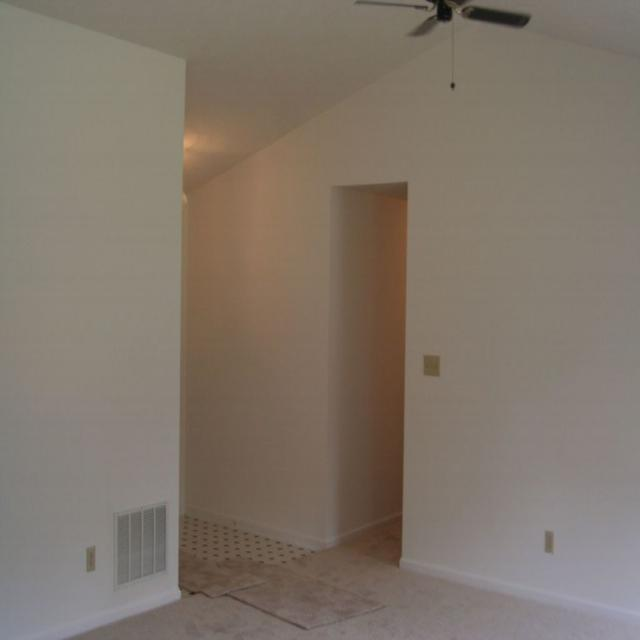fan_on: (350, 0, 531, 40)
